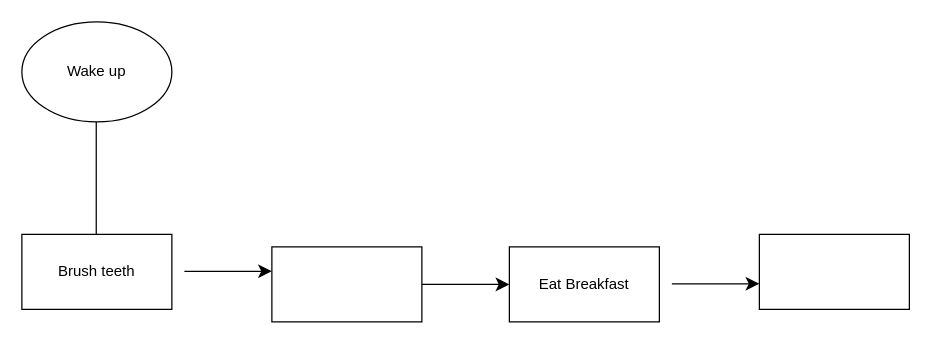
Some shapes in this 931 by 344 pixel diagram are drawn without their labels. Here are the shapes that lost their labels. From the top down, the centre of each, then its label:
At (x=346, y=284): "Take a shower".
At (x=833, y=271): "Go to School".
